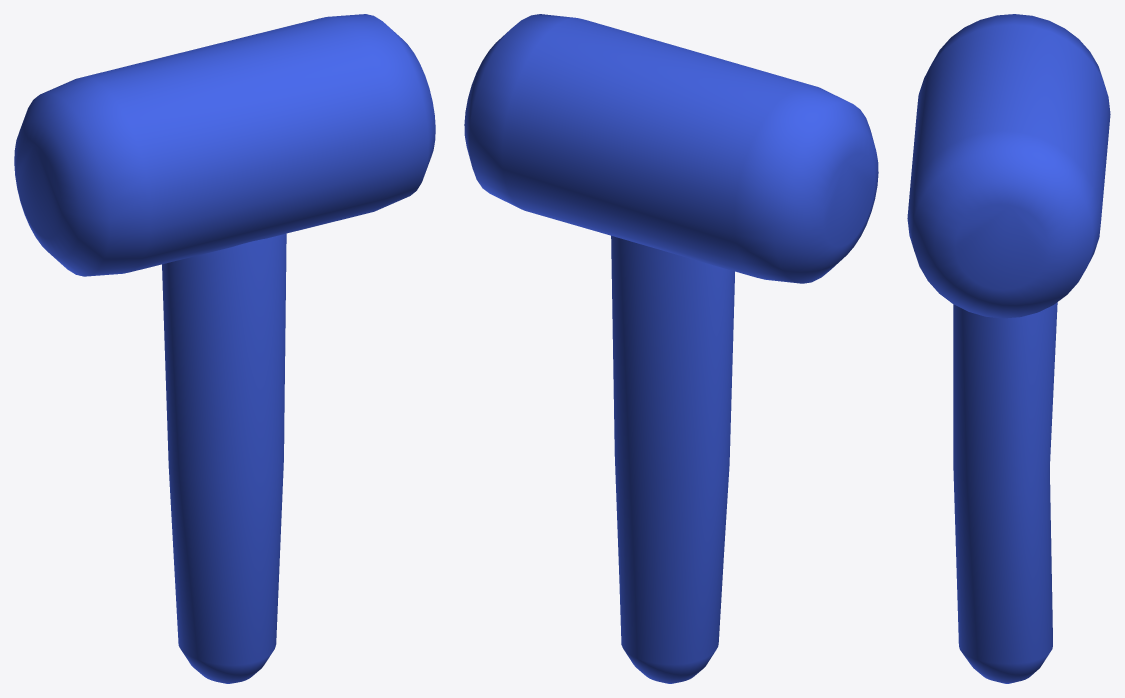
File: PFE_HammerBalloon.fbx
3 renders of one model, left to right at view 1: azimuth 30°, elevation 25°; view 2: azimuth 150°, elevation 25°; view 3: azimuth 270°, elevation 25°, orthographic. The views are drawn at different scales.
Visible parts, largest first — view 1: Copy; view 2: Copy; view 3: Copy.
Part boxes in pixels (box(x1,y1,x2,y2)): Copy: box(14, 14, 435, 683); Copy: box(464, 14, 878, 683); Copy: box(907, 14, 1110, 683).
Size of the model in its own units: 25.82 by 42.3 by 12.87.
